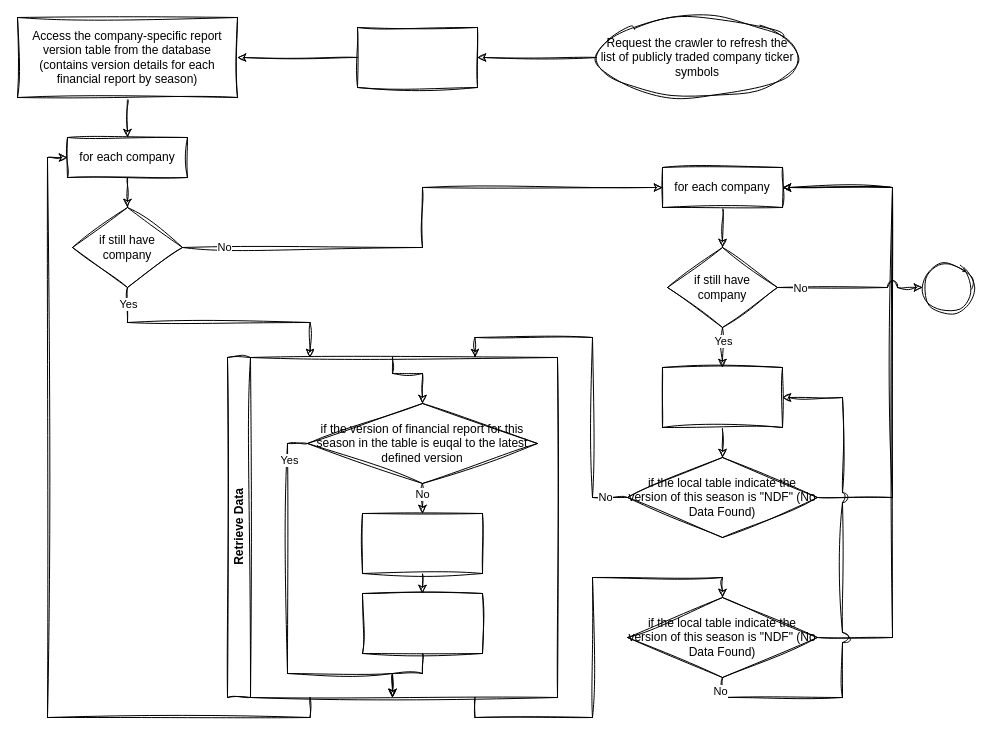
Image size: 990x743. Some labels were removed from this diagram. The box of each missing label's shape, as (x1, y1, x2, y2) in pixels:
Attempt to retrieve the financial report of this season: (362, 512, 482, 574)
End: (922, 262, 972, 312)
for each season (go backward) from two season ago: (662, 366, 782, 428)
Get the latest defined version for each report: (356, 26, 478, 88)
Update local version table information: (362, 592, 482, 654)
